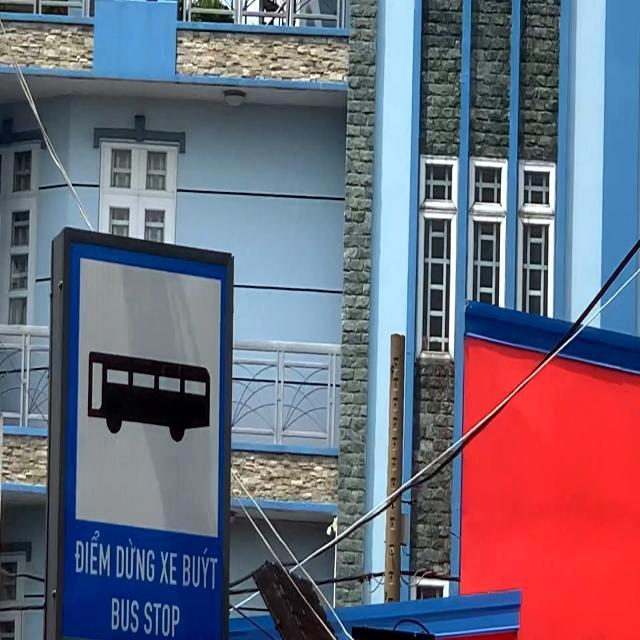Ben xe buyt: (60, 236, 231, 640)
